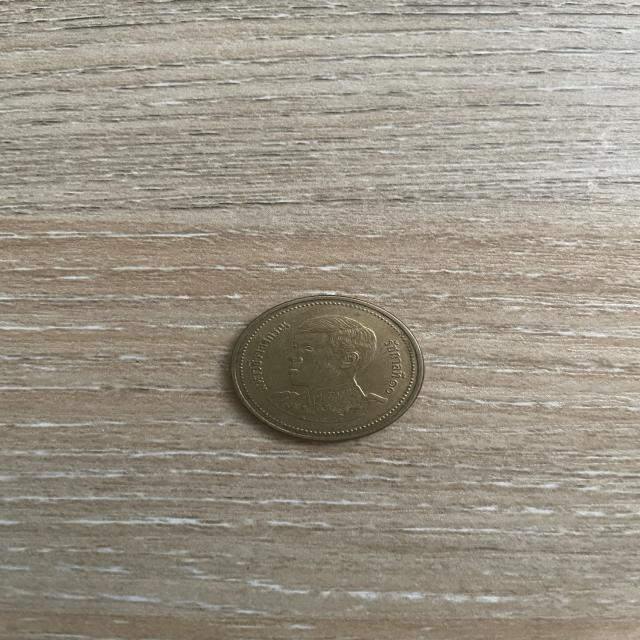2 Bath: (219, 287, 434, 452)
